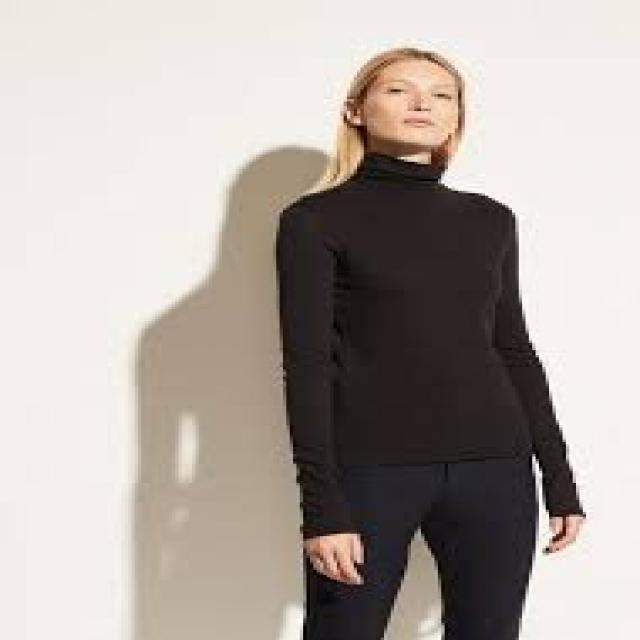plain: (262, 166, 568, 468)
